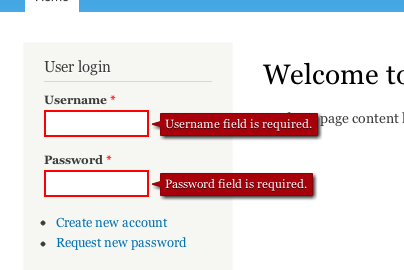error_field: (43, 169, 150, 198), (44, 109, 149, 138)
error_message: (165, 118, 312, 131), (166, 179, 307, 191)
